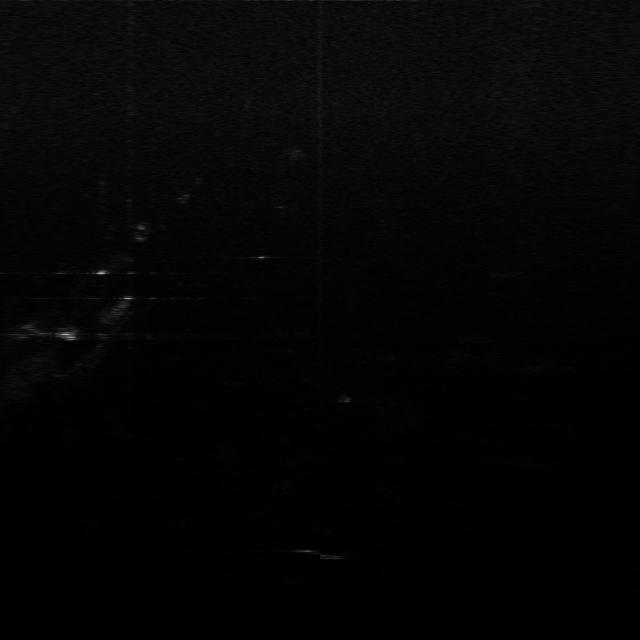rov: (52, 325, 82, 347)
